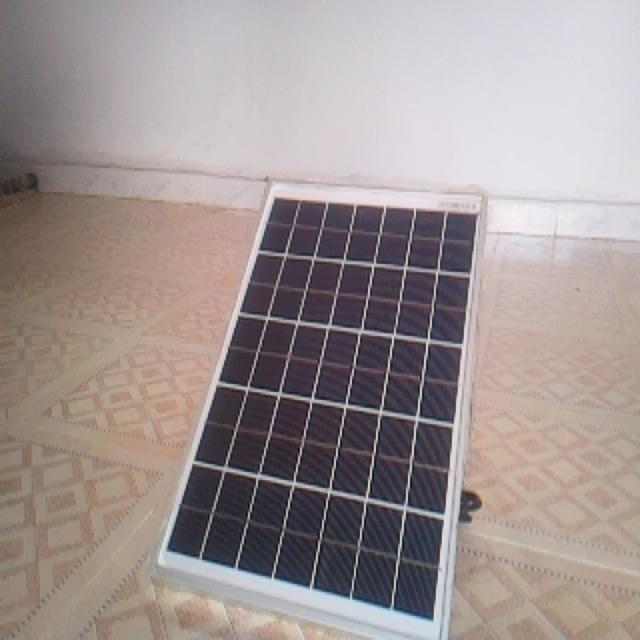Normal Solar Panel: (155, 181, 485, 639)
